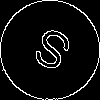S: (25, 25, 76, 82)
